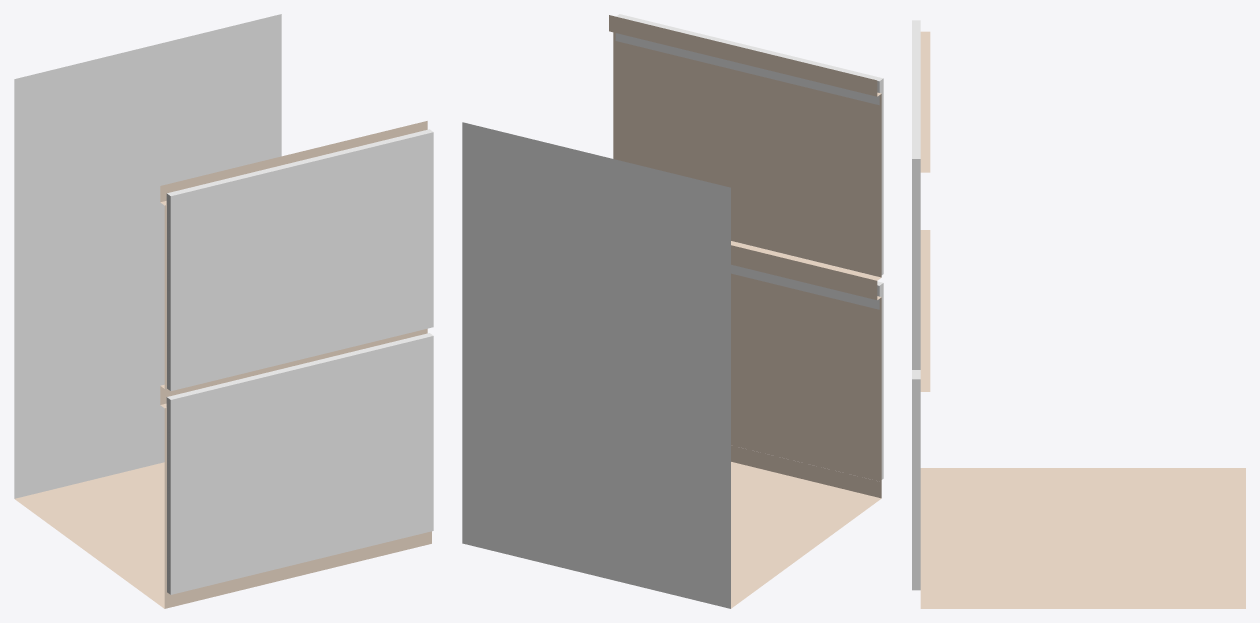
Rendered from KTCH_ELIX_Cabinet_False_60_60_90_Drawers_2.FBX.
The picture shows the model from 3 angles, left to right: view 1: azimuth 30°, elevation 25°; view 2: azimuth 150°, elevation 25°; view 3: azimuth 270°, elevation 25°; orthographic projection. The views are drawn at different scales.
Visible parts, largest first — view 1: KTCH_ELIX_Cabinet_False_60_60_90_Drawers_2; view 2: KTCH_ELIX_Cabinet_False_60_60_90_Drawers_2; view 3: KTCH_ELIX_Cabinet_False_60_60_90_Drawers_2.
Part boxes in pixels (x1,y1,x2,y2): KTCH_ELIX_Cabinet_False_60_60_90_Drawers_2: (14,14,433,608); KTCH_ELIX_Cabinet_False_60_60_90_Drawers_2: (462,14,883,608); KTCH_ELIX_Cabinet_False_60_60_90_Drawers_2: (912,20,1245,608).
Bounding box in the file's own units: 60 × 59.98 × 90.
